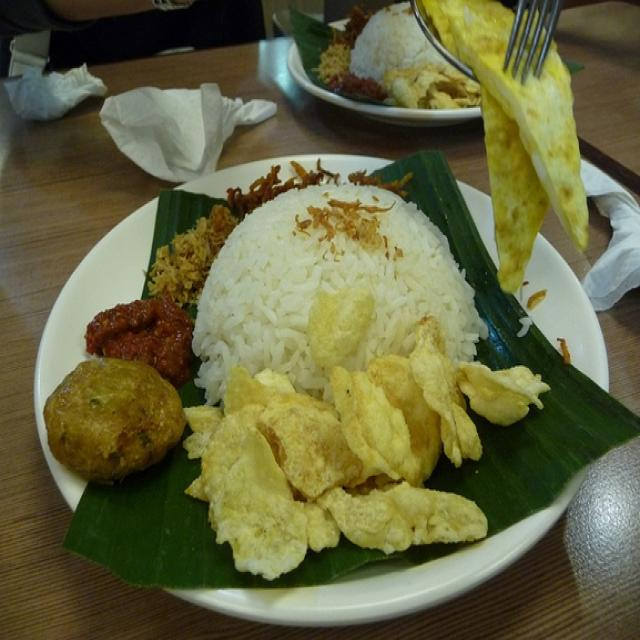米饭主食: (55, 98, 608, 591)
